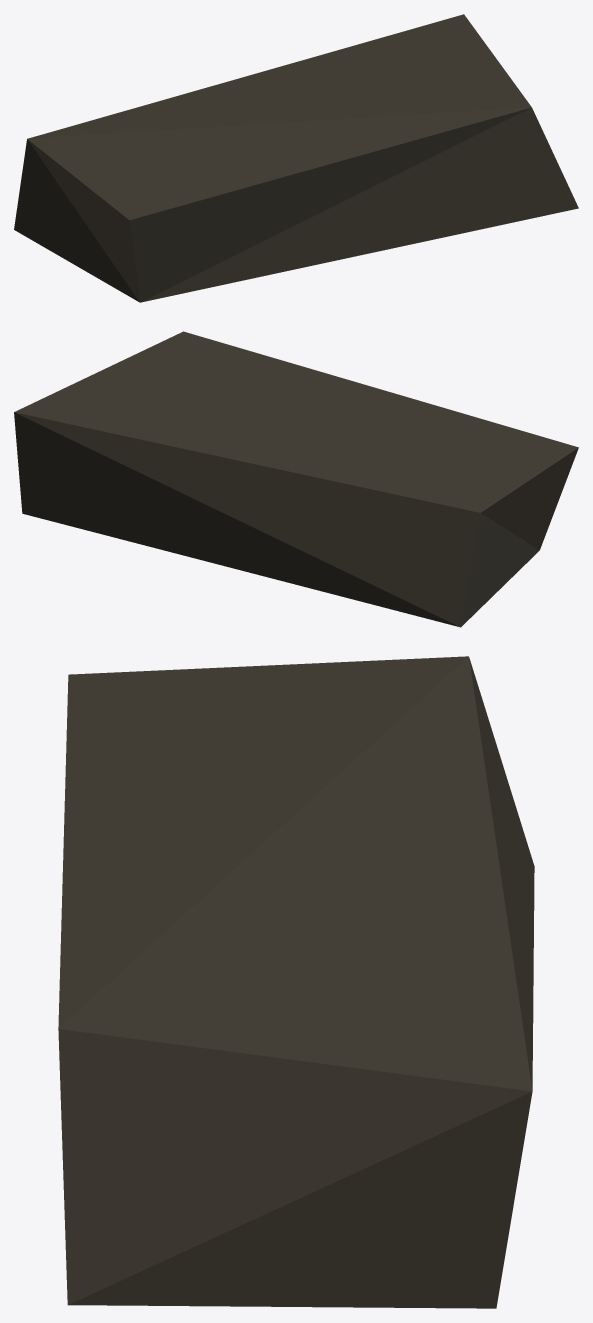
The model's file is Brick_Single_6_LOD.fbx.
3 views of the same model, one above another, from view 1: azimuth 30°, elevation 25°; view 2: azimuth 150°, elevation 25°; view 3: azimuth 270°, elevation 25° (orthographic). The views are drawn at different scales.
Parts seen in each view (by area): view 1: Group59313; view 2: Group59313; view 3: Group59313.
Boxes of the visible parts, box(x1,y1,x2,y2) form: Group59313: box(14, 14, 578, 302); Group59313: box(14, 331, 578, 627); Group59313: box(58, 656, 534, 1308).
Bounding box in the file's own units: 1.74 × 0.4249 × 0.7927.
